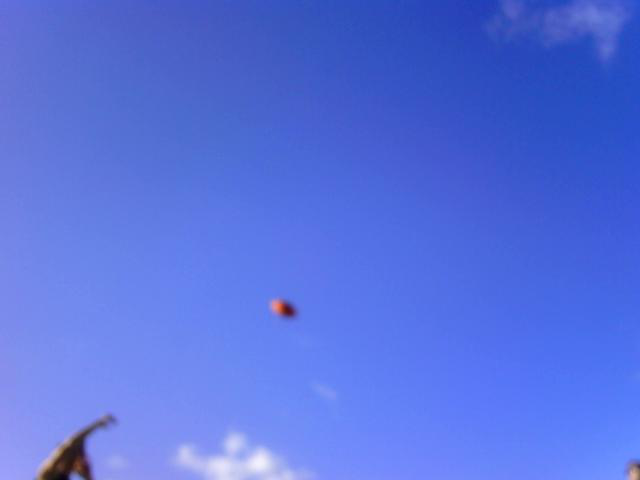football: (269, 297, 297, 323)
